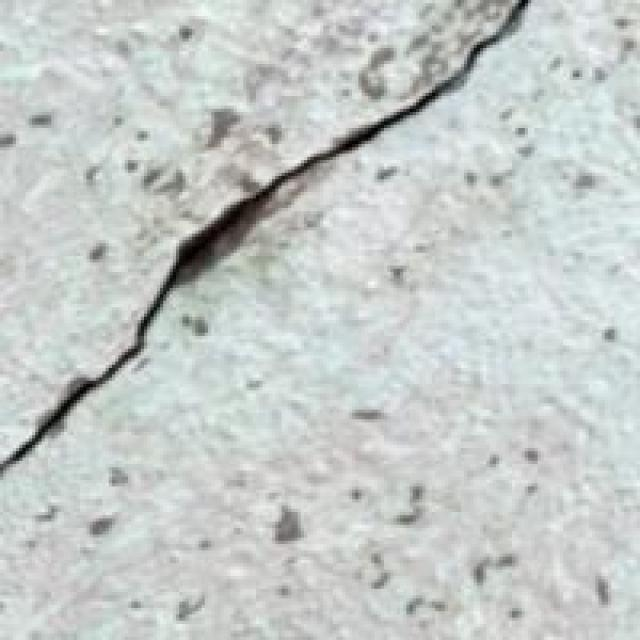Crack: (0, 0, 538, 541)
